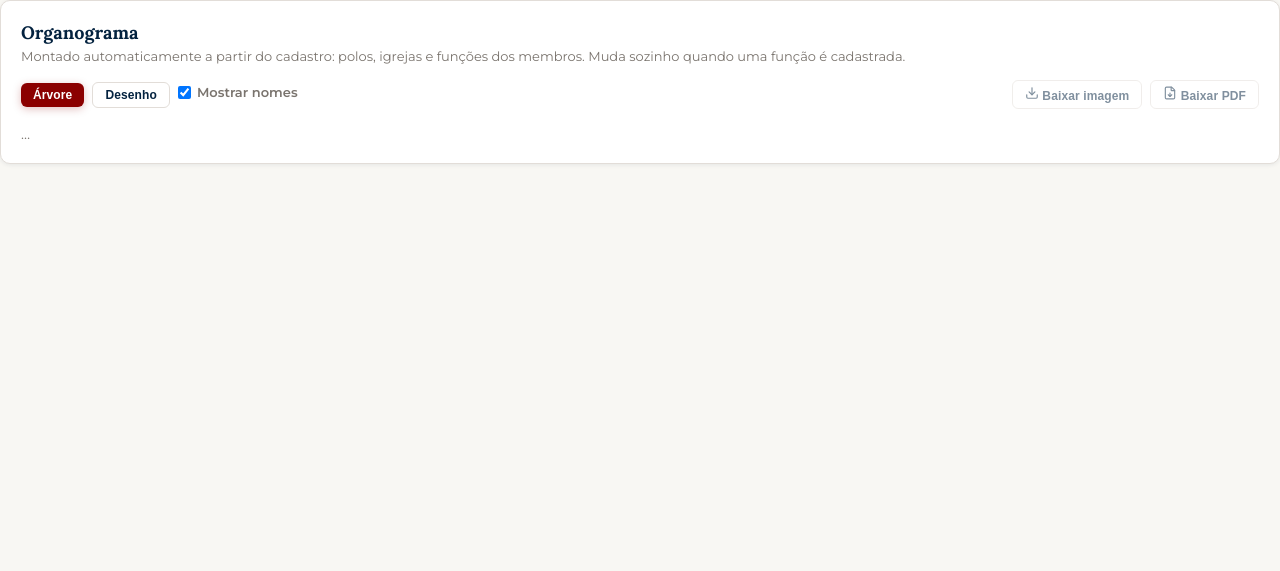
Scenario: OrgChartPanel › drawing and export › offers the drawing on tablet/desktop: pastor/ungido/diácono open by name, obreiros closed to a count
Step 1. Click the button "Desenho" → (131, 94), box [92,82,170,108]
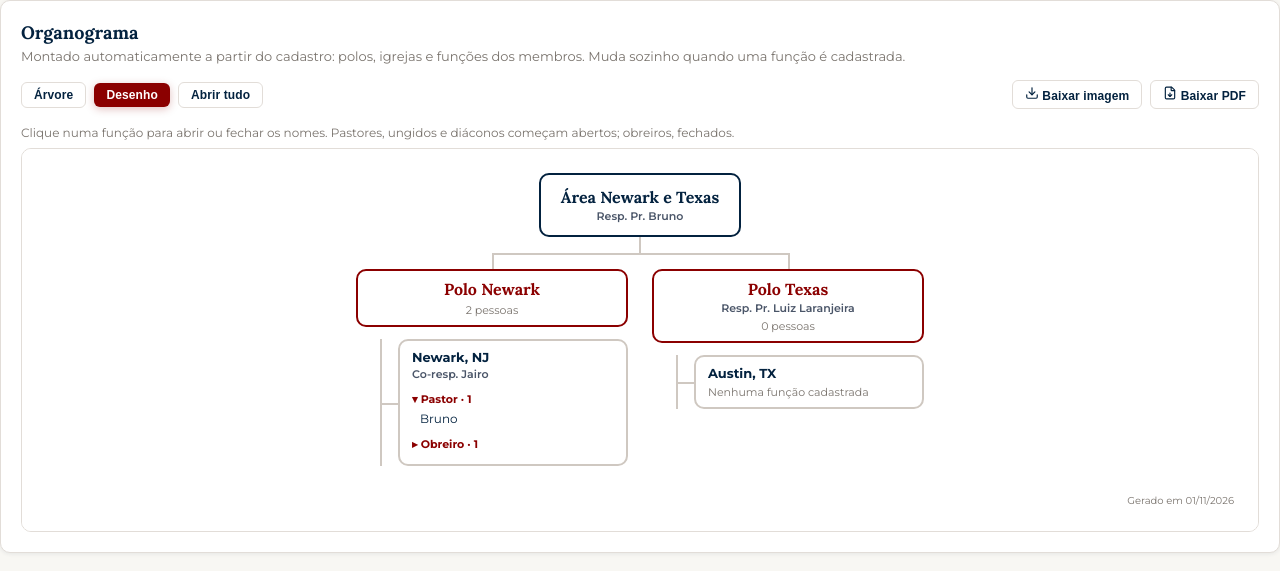
Expected: the label labelled "Mostrar nomes" is gone
Expected: the text "Resp. Pr. Bruno" is shown, [596,209,683,223]
Expected: the button "▾ Pastor · 1" is shown, [412,387,472,411]
